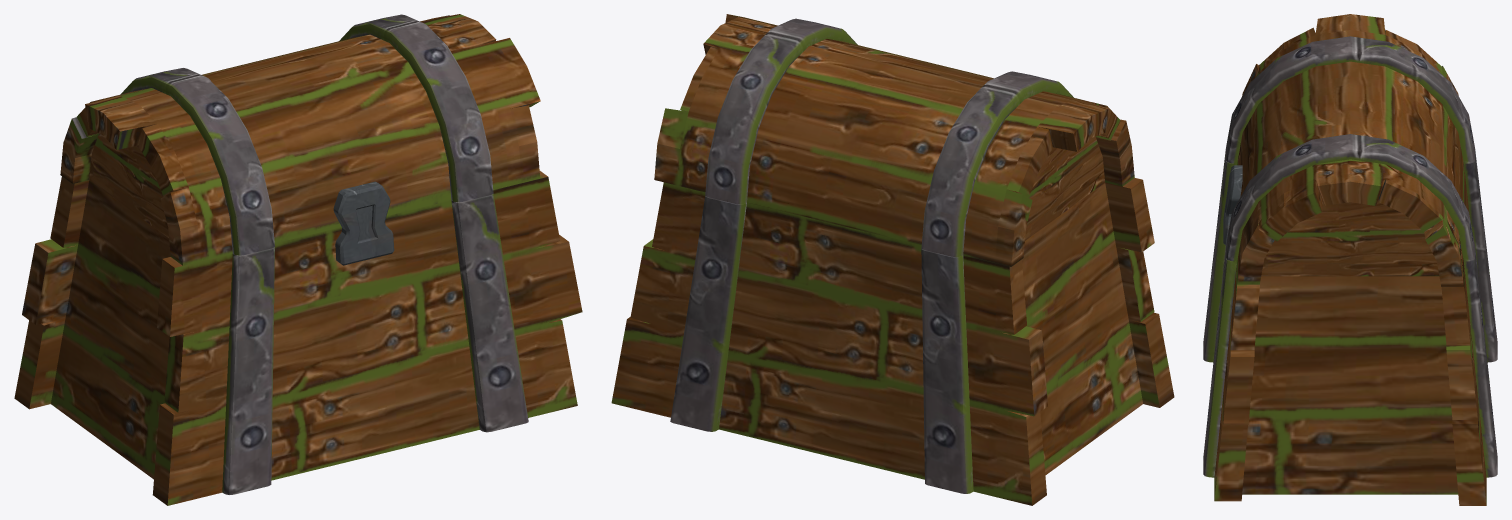
File: Chest.fbx
The picture shows the model from 3 angles, left to right: view 1: azimuth 30°, elevation 25°; view 2: azimuth 150°, elevation 25°; view 3: azimuth 270°, elevation 25°; orthographic projection. The views are drawn at different scales.
Visible parts, largest first — view 1: under, over; view 2: under, over; view 3: under, over.
Part boxes in pixels (x1,y1,x2,y2): under: (14, 171, 582, 505); over: (60, 14, 540, 265); under: (611, 178, 1174, 505); over: (654, 14, 1134, 266); under: (1203, 149, 1497, 505); over: (1223, 14, 1474, 286).
Bounding box in the file's own units: 199 × 155 × 130.
